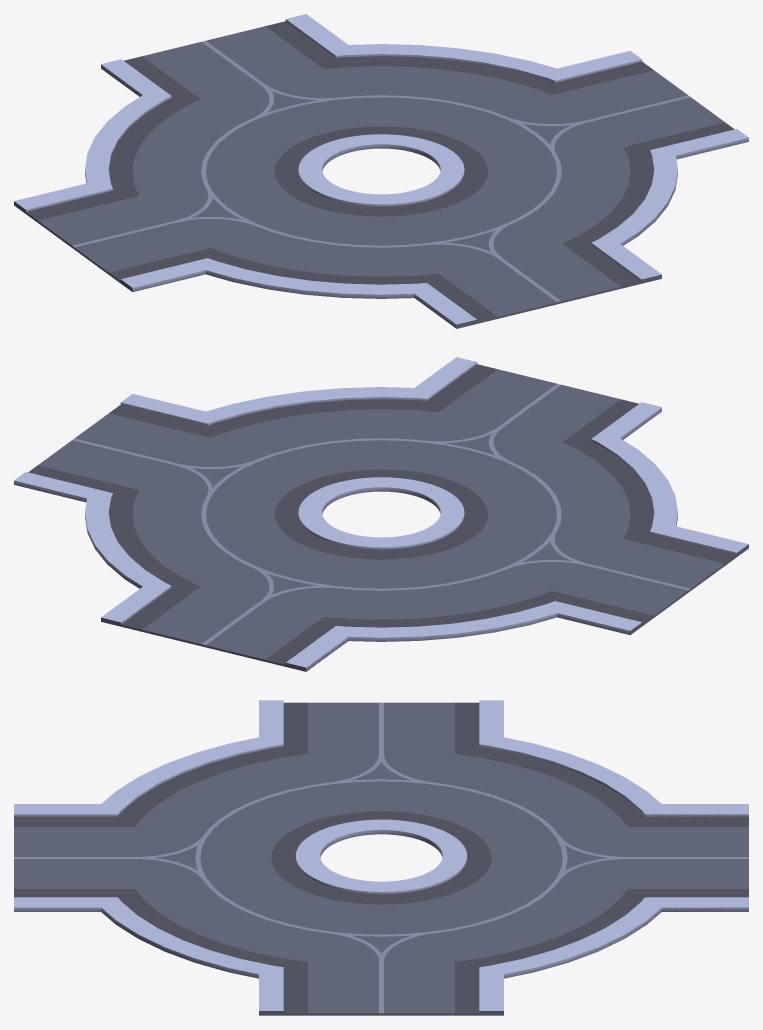
File: road-roundabout.glb
3 renders of one model, top to bottom at view 1: azimuth 30°, elevation 25°; view 2: azimuth 150°, elevation 25°; view 3: azimuth 270°, elevation 25°, orthographic. The views are drawn at different scales.
Parts seen in each view (by area): view 1: road-roundabout; view 2: road-roundabout; view 3: road-roundabout.
Boxes of the visible parts, x1,y1,x2,y2 form: road-roundabout: (14,14,748,328); road-roundabout: (14,357,748,671); road-roundabout: (14,700,748,1015).
Bounding box in the file's own units: 3 × 0.02 × 3.
1 material, 1 textured.
